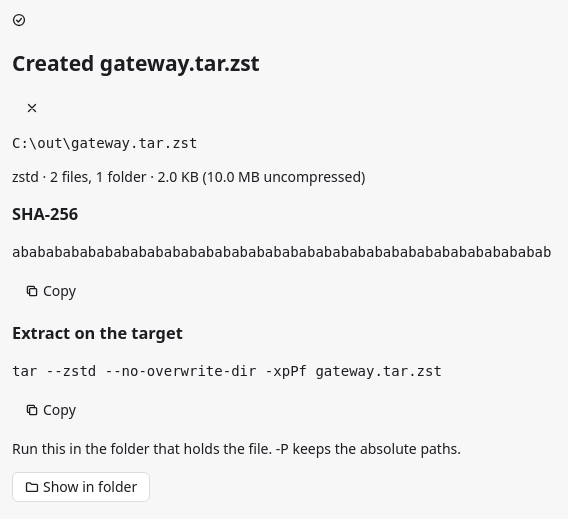
Test: a rejected clipboard write says Couldn't copy, never Copied
Click the button with aria-label "Copy SHA-256" at (50,291), box x1=12 y1=276 x2=89 y2=306
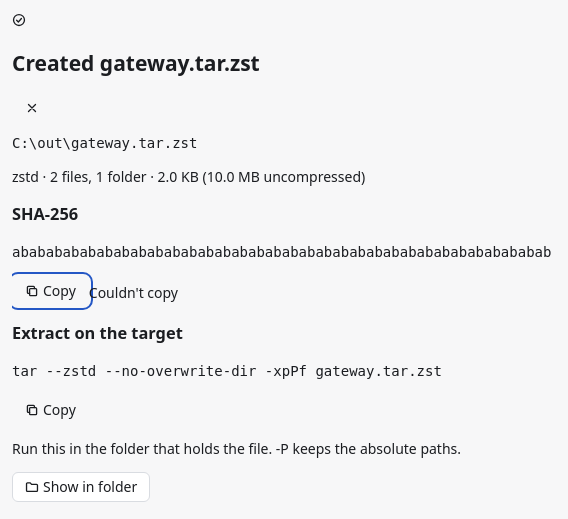
Result: the text "Couldn't copy" is shown at x1=89 y1=283 x2=178 y2=302
